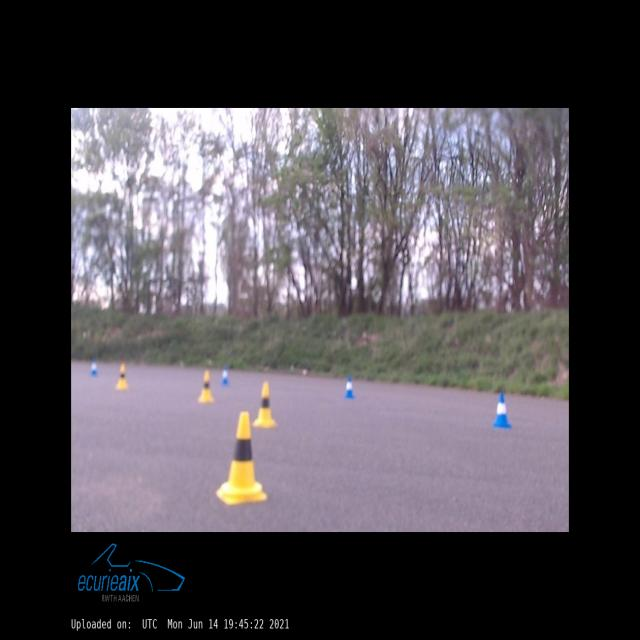blue_cone: (493, 393, 512, 427), (344, 377, 354, 398), (222, 366, 229, 385), (91, 359, 97, 376)
yellow_cone: (216, 412, 267, 504), (252, 382, 276, 427), (198, 372, 213, 402), (117, 364, 128, 389)
